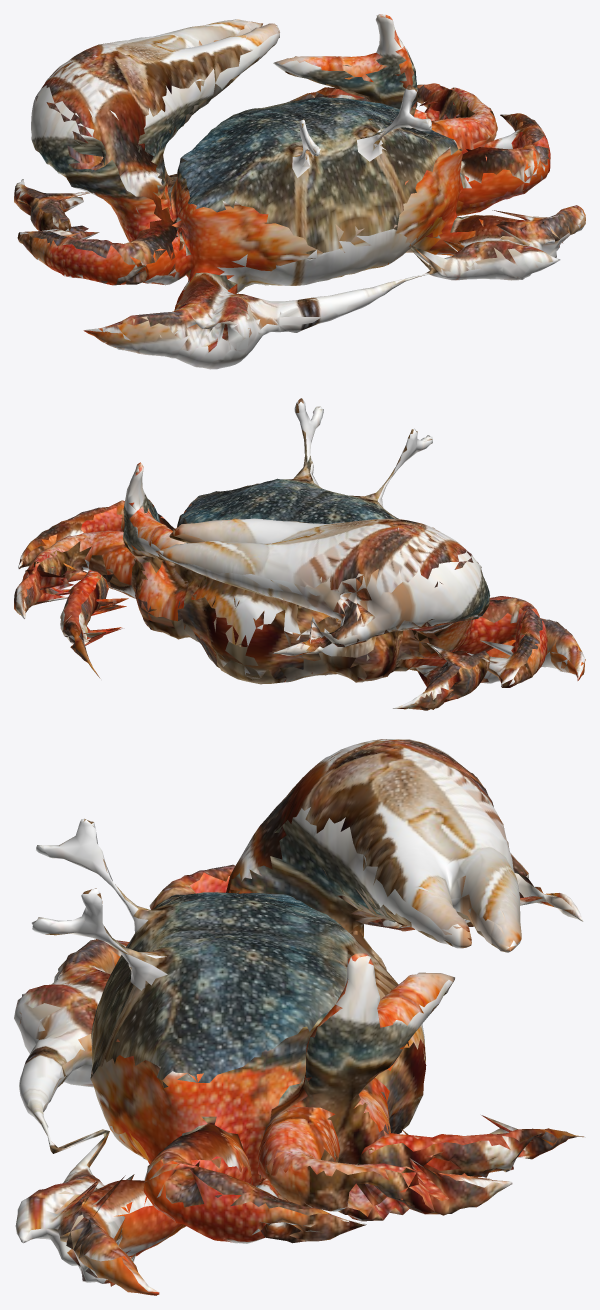
Rendered from fish_fiddler.glb.
The picture shows the model from 3 angles, top to bottom: view 1: azimuth 30°, elevation 25°; view 2: azimuth 150°, elevation 25°; view 3: azimuth 270°, elevation 25°; orthographic projection. The views are drawn at different scales.
Visible parts, largest first — view 1: orient; view 2: orient; view 3: orient.
Boxes of the visible parts, <box> form: orient: <box>14,14,585,369</box>; orient: <box>14,398,585,710</box>; orient: <box>14,739,585,1295</box>.
Size of the model in its own units: 2.01 by 0.8873 by 1.39.
Materials: 1 (1 with a texture image).
